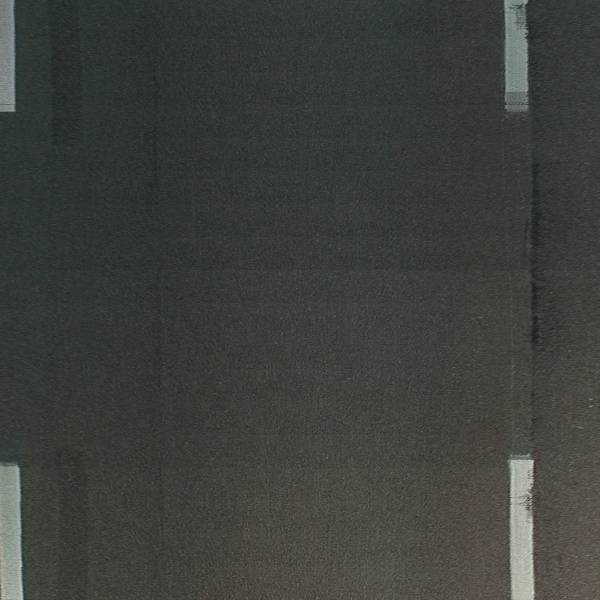road_damage: (526, 160, 548, 356)
